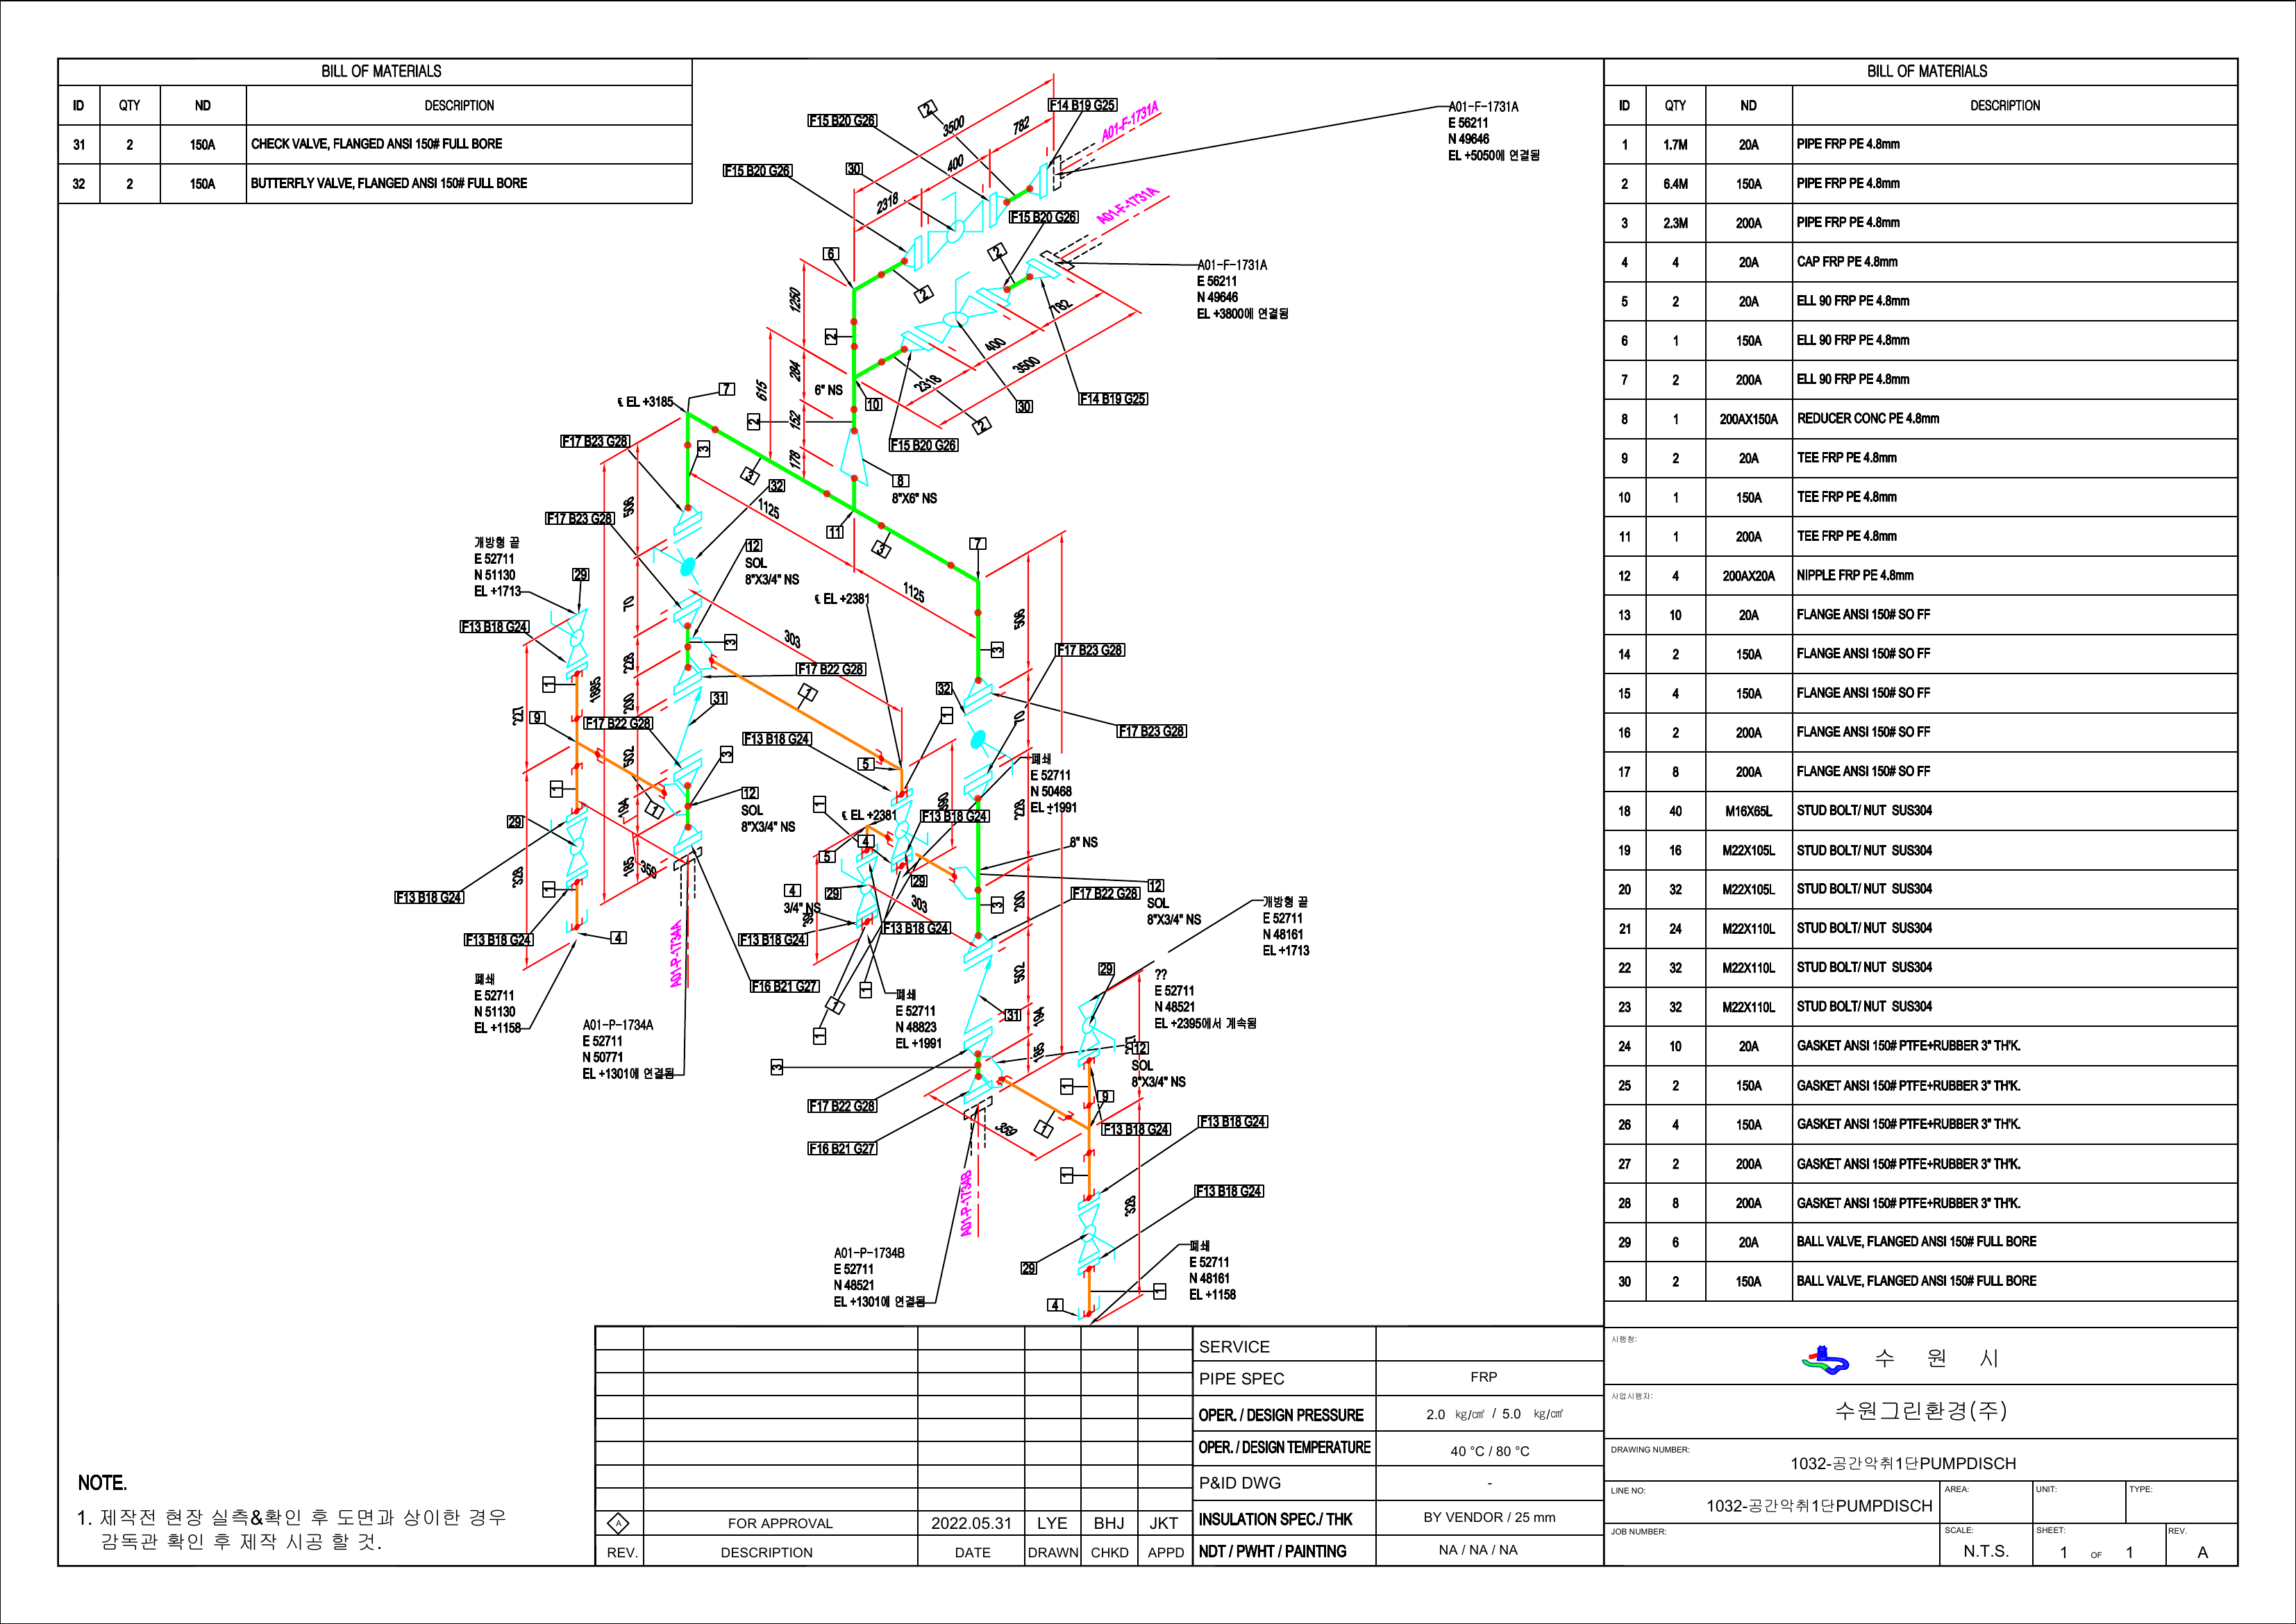table: (1599, 49, 2245, 1316)
